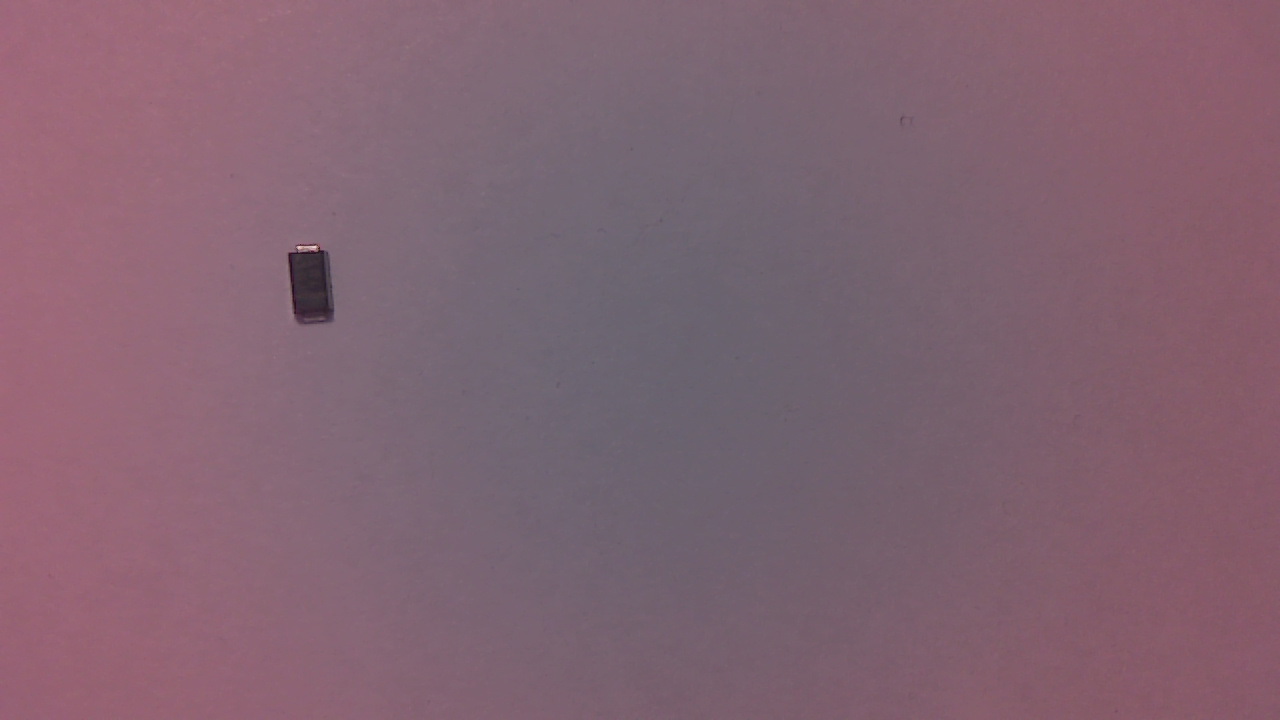Diode: (293, 248, 338, 333)
